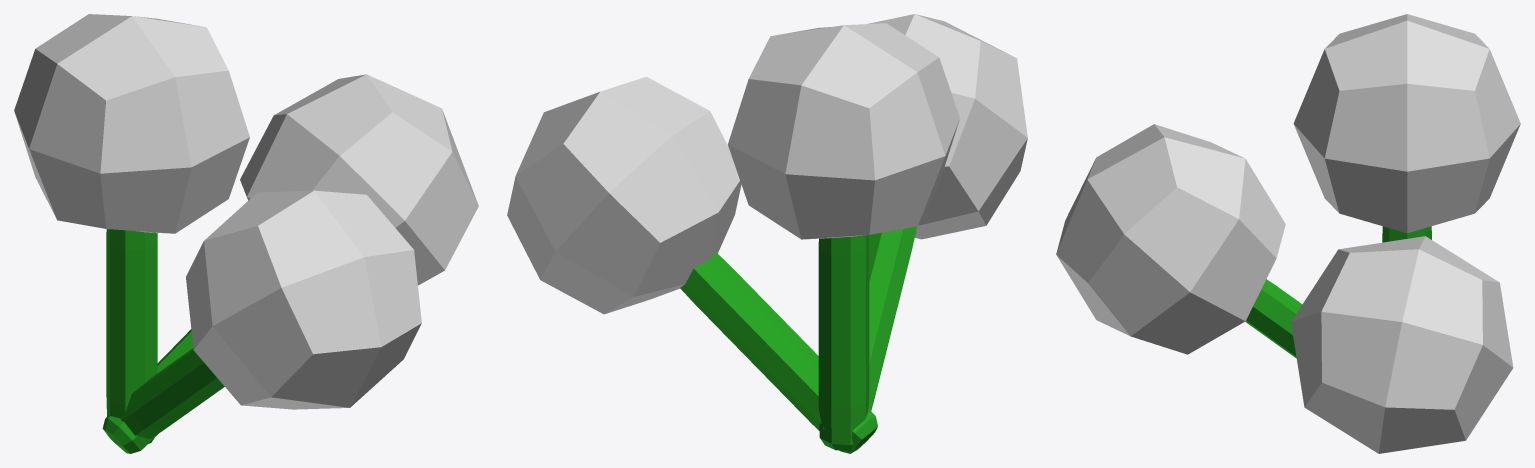
The model's file is coton.fbx.
The picture shows the model from 3 angles, left to right: view 1: azimuth 30°, elevation 25°; view 2: azimuth 150°, elevation 25°; view 3: azimuth 270°, elevation 25°; orthographic projection. The views are drawn at different scales.
Parts seen in each view (by area): view 1: Cube.003, small plant.003; view 2: Cube.003, small plant.003; view 3: Cube.003, small plant.003.
Part boxes in pixels (x1,y1,x2,y2): Cube.003: (14,14,478,409); small plant.003: (102,229,224,453); Cube.003: (507,14,1027,314); small plant.003: (680,226,916,453); Cube.003: (1056,14,1520,453); small plant.003: (1245,226,1431,358).
Bounding box in the file's own units: 30.19 × 28.86 × 29.47.
